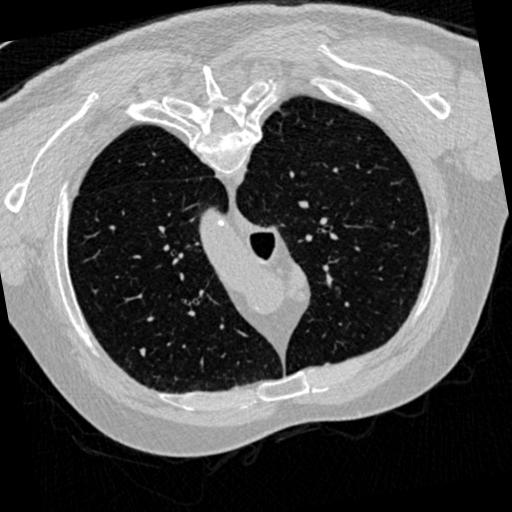nodule: (137, 345, 151, 359)
